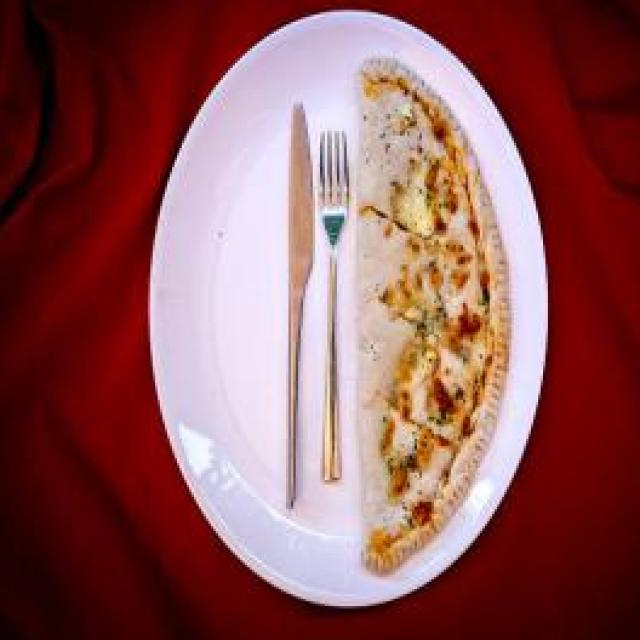knife: (276, 97, 318, 514)
